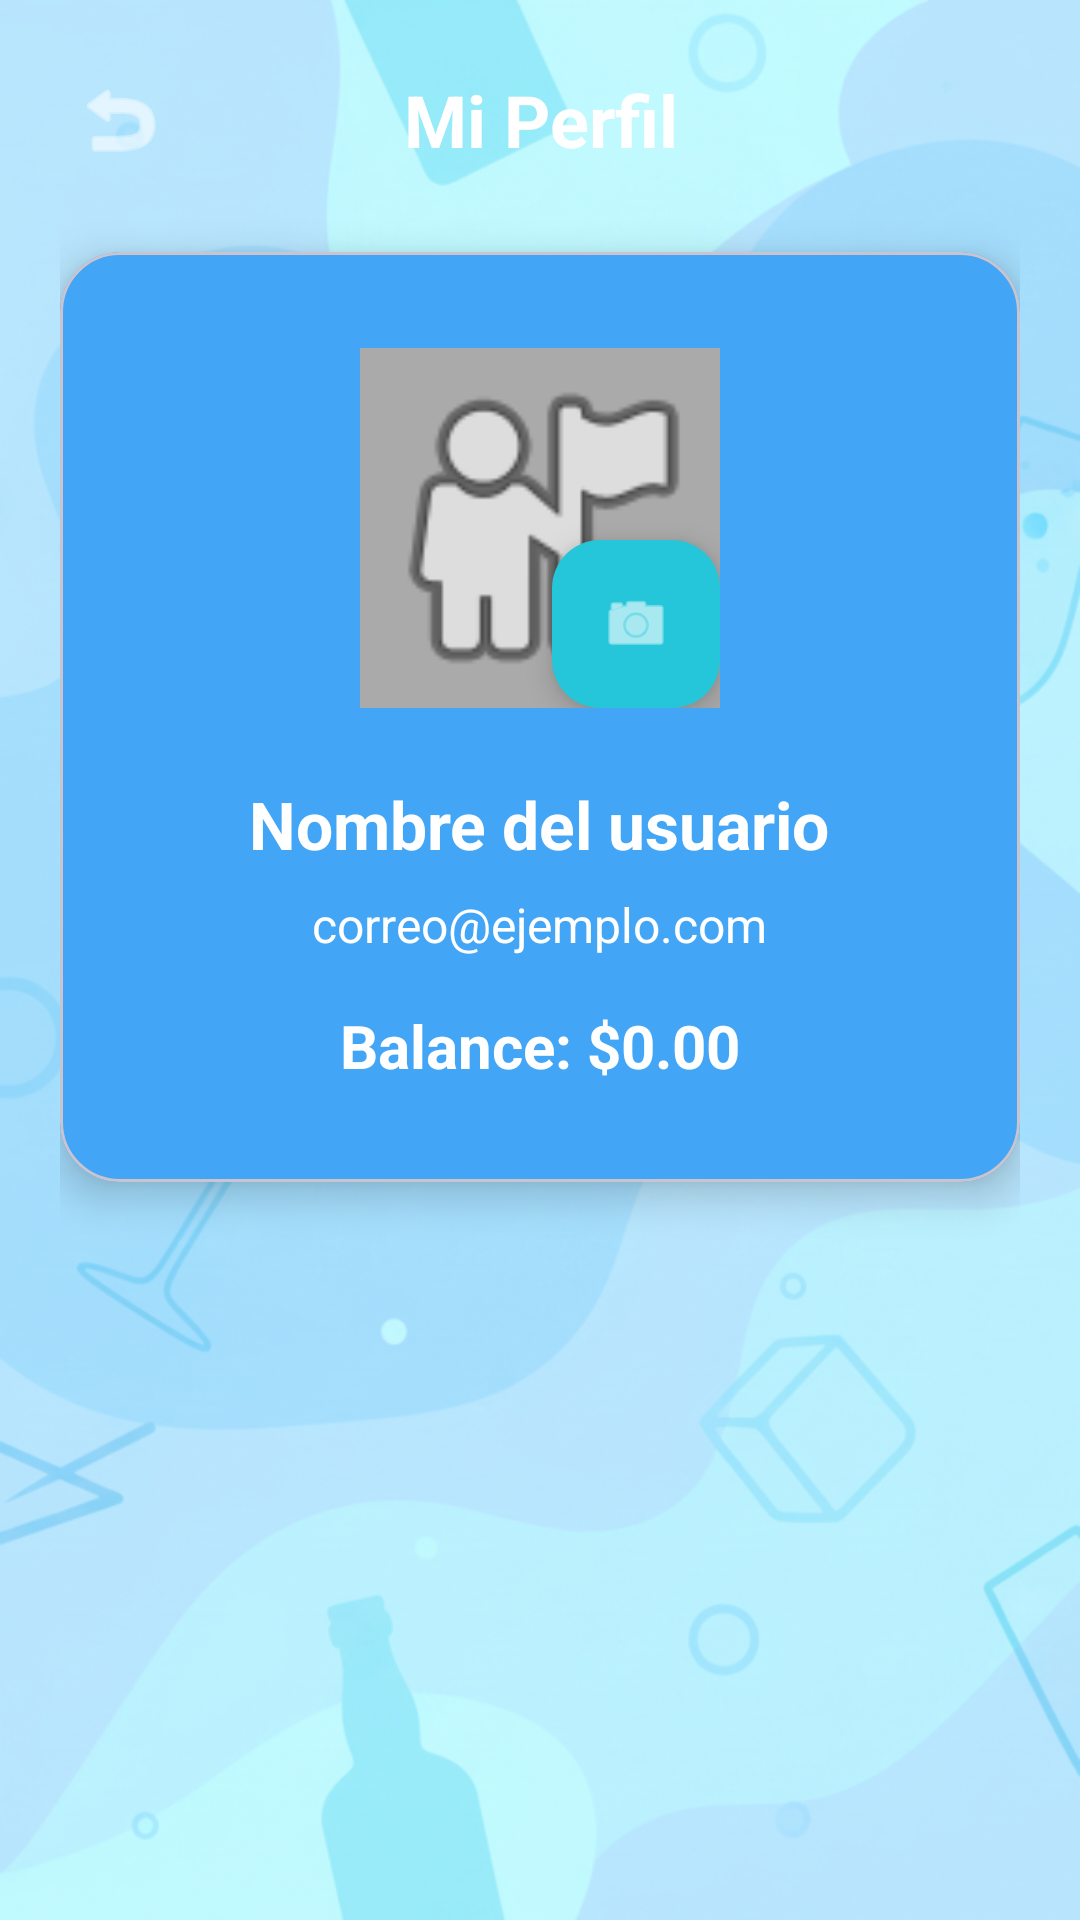

Icons on this 1080 x 1920 Android screen, each with the point to tap as (x=x, y=y):
Volver: (x=121, y=120)
